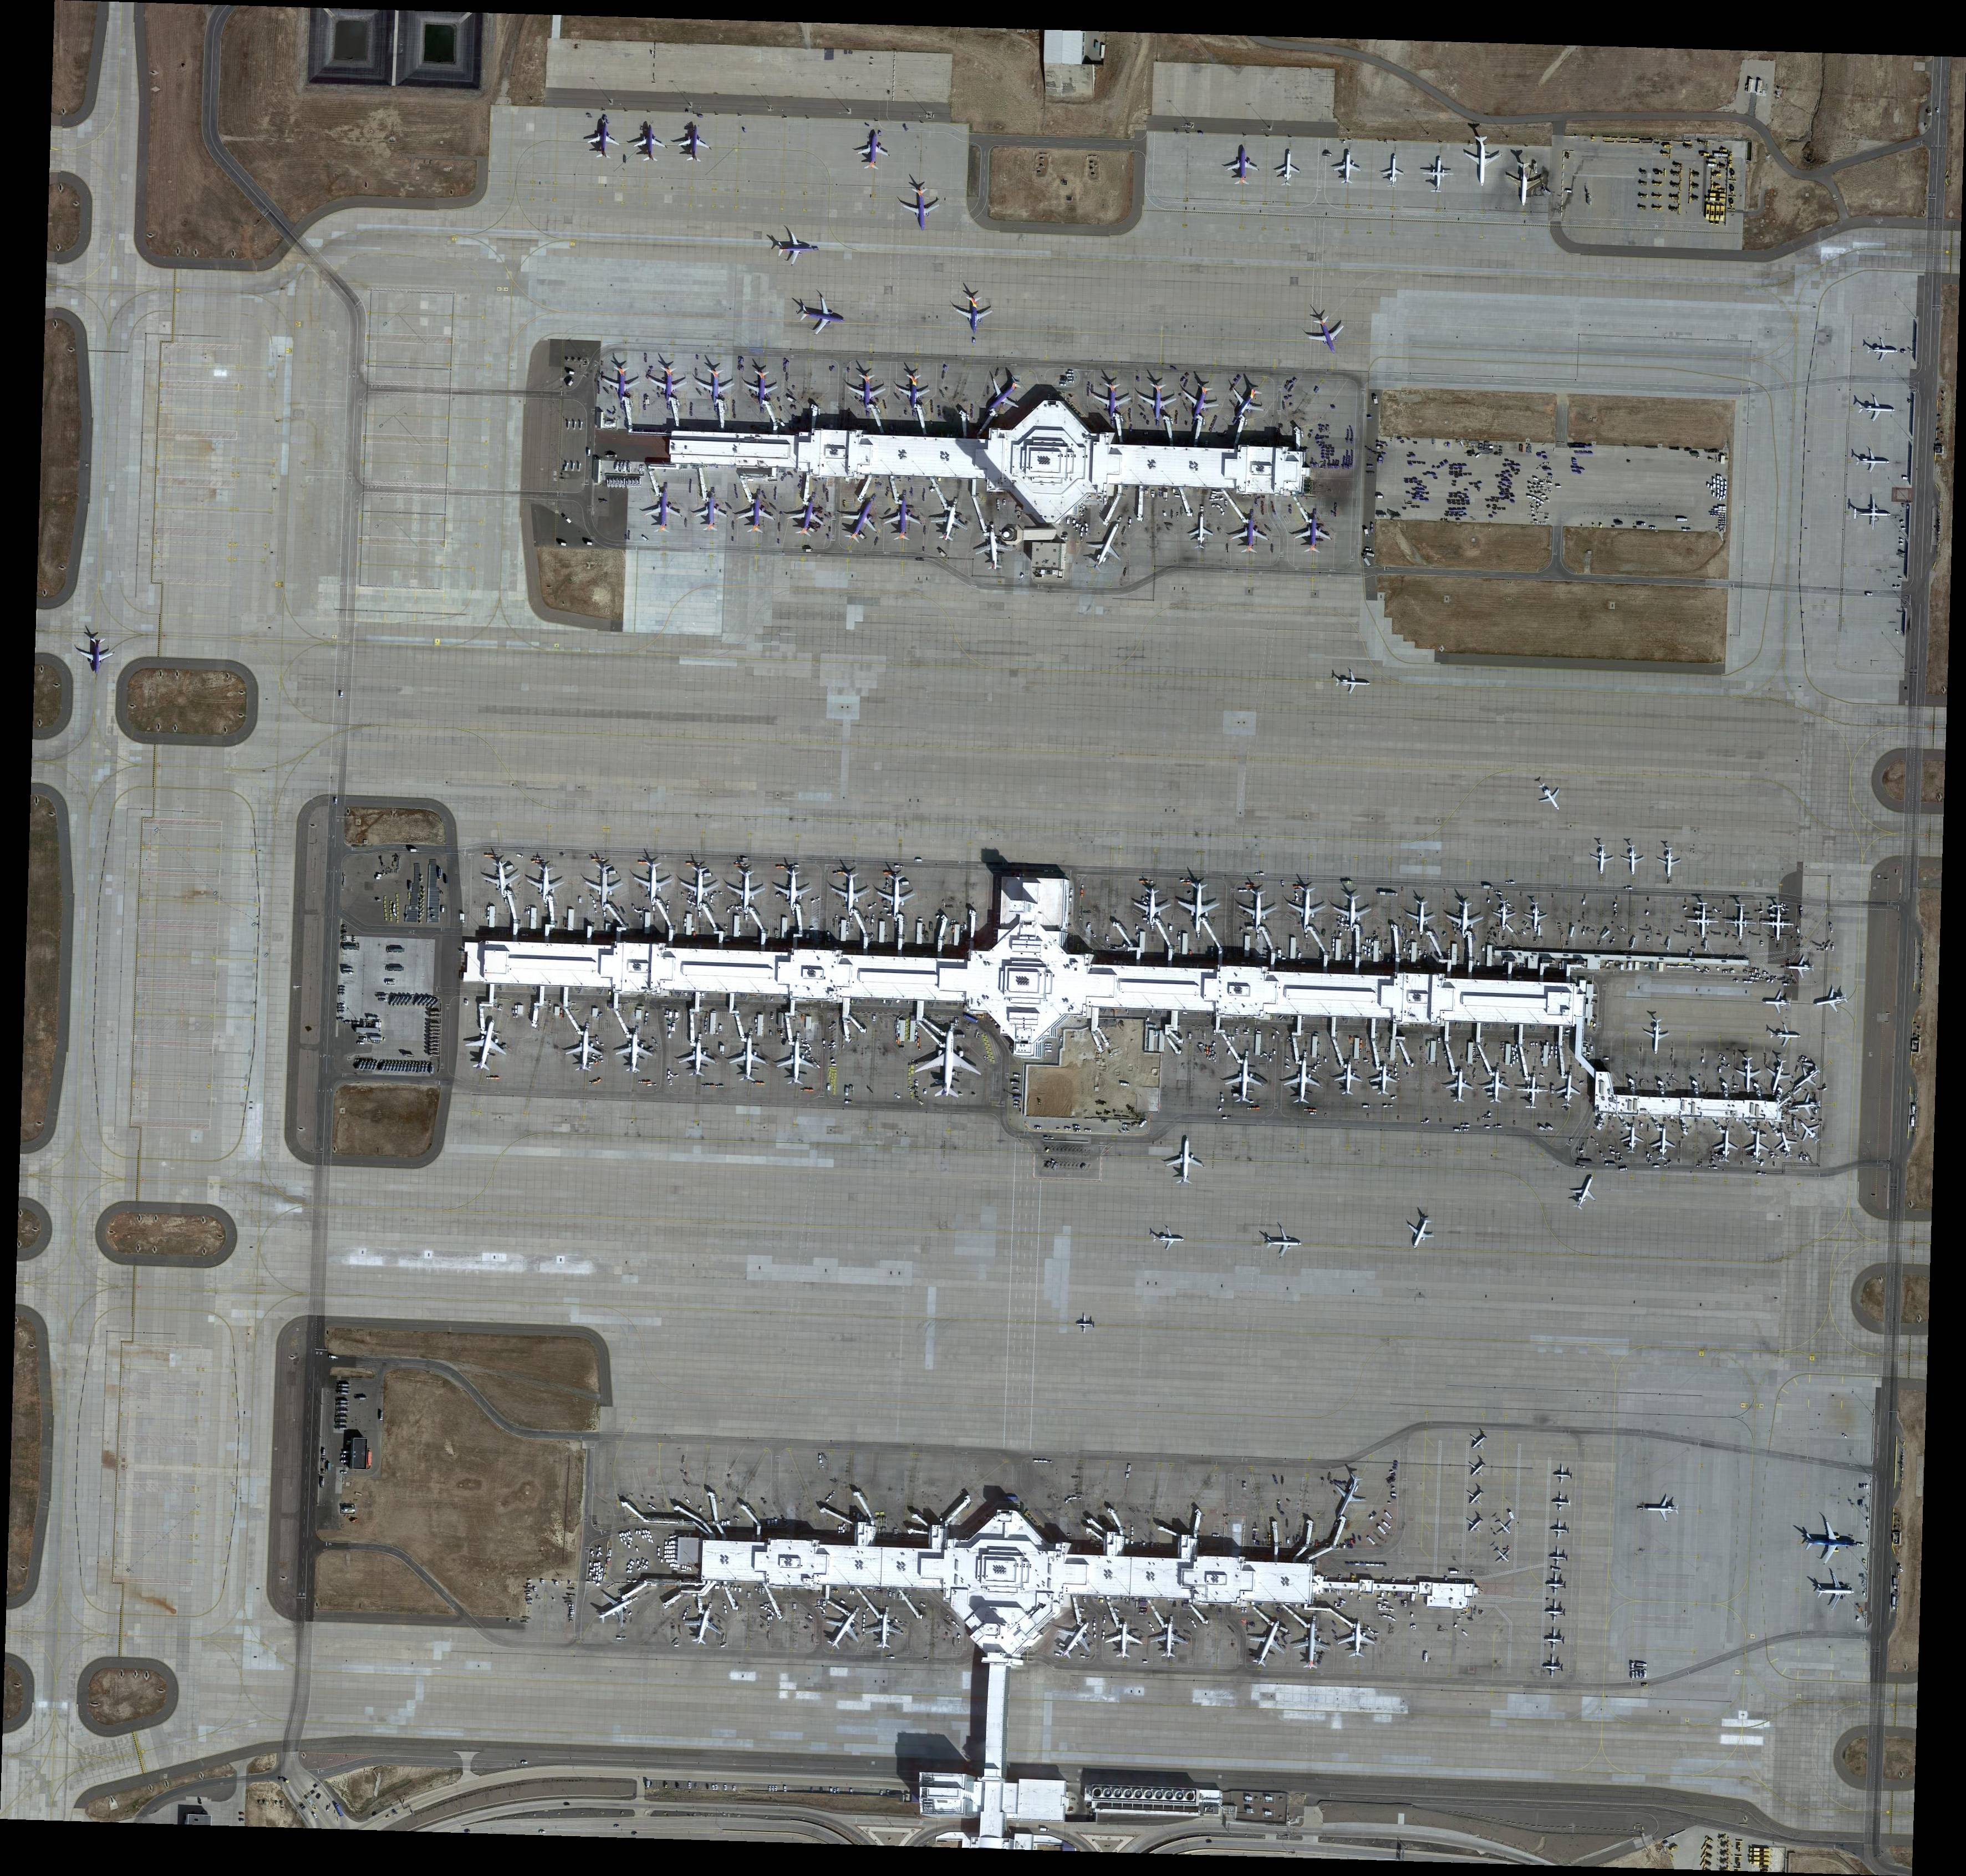plane: (909, 1020, 985, 1102), (967, 356, 1039, 430), (1318, 1462, 1380, 1532), (1211, 374, 1276, 439), (1041, 1607, 1104, 1672), (1238, 1611, 1295, 1681), (1076, 512, 1136, 579), (830, 488, 890, 551), (813, 1599, 872, 1658), (460, 1013, 513, 1079), (788, 288, 851, 342), (588, 1583, 648, 1637), (674, 1600, 732, 1655), (1801, 1514, 1859, 1569), (1173, 374, 1227, 430), (1302, 311, 1355, 363), (1160, 1130, 1208, 1188), (1176, 877, 1222, 937), (785, 490, 830, 544), (927, 497, 972, 551), (874, 865, 918, 921), (1285, 883, 1329, 939), (776, 1034, 820, 1090), (771, 863, 814, 918), (1222, 1053, 1266, 1107), (1292, 1616, 1332, 1674), (897, 184, 944, 233), (1397, 1207, 1445, 1257), (1236, 884, 1280, 937), (562, 1023, 604, 1078), (1281, 1055, 1324, 1109), (1087, 379, 1136, 425), (723, 867, 767, 918), (678, 863, 721, 914), (1462, 133, 1503, 188), (829, 869, 872, 918), (974, 523, 1016, 574), (583, 862, 625, 913), (1504, 160, 1546, 211), (613, 1027, 655, 1078), (1332, 890, 1374, 939), (600, 362, 644, 407), (674, 1034, 718, 1079), (632, 860, 674, 907), (1130, 883, 1173, 930), (883, 495, 923, 544), (642, 486, 683, 535), (1757, 1051, 1797, 1100), (74, 634, 118, 677), (1229, 512, 1271, 558), (1136, 379, 1178, 425), (864, 1607, 906, 1653), (1104, 1616, 1146, 1662), (1150, 1616, 1190, 1664), (728, 1034, 767, 1083), (481, 858, 525, 900), (1445, 899, 1487, 942), (953, 293, 995, 337), (692, 367, 735, 409), (1813, 1571, 1857, 1613), (1295, 509, 1334, 556), (1566, 1169, 1604, 1216), (1787, 1111, 1829, 1153), (1531, 776, 1571, 820), (646, 365, 690, 405), (523, 863, 565, 904), (1850, 493, 1892, 533), (844, 374, 886, 414), (893, 369, 934, 411), (1785, 1058, 1827, 1099), (776, 230, 820, 269), (1262, 1221, 1306, 1260), (678, 121, 714, 165), (855, 128, 892, 172), (1223, 142, 1260, 186), (1810, 983, 1854, 1020), (1761, 900, 1796, 946), (737, 495, 776, 535), (1339, 1618, 1378, 1658), (693, 491, 730, 533), (1420, 153, 1457, 195), (1724, 902, 1761, 944), (1687, 899, 1722, 942), (741, 370, 781, 407), (634, 121, 669, 163), (586, 119, 621, 161), (1406, 897, 1439, 941), (1855, 393, 1896, 426), (1641, 1493, 1682, 1527), (1638, 1016, 1671, 1056), (1517, 1070, 1550, 1111), (1187, 509, 1216, 553), (1332, 667, 1373, 698), (1443, 1065, 1474, 1106), (1734, 1053, 1764, 1095), (1482, 1065, 1511, 1107), (1769, 1127, 1803, 1164), (1274, 147, 1302, 190), (1150, 1223, 1188, 1253), (1334, 147, 1362, 188), (1369, 1058, 1397, 1099), (1713, 1123, 1740, 1165), (1555, 1069, 1582, 1111), (1587, 841, 1615, 879), (1332, 1058, 1360, 1097), (1745, 1127, 1771, 1167), (1460, 1453, 1494, 1485), (1782, 953, 1817, 983), (1380, 153, 1406, 191), (1852, 448, 1891, 474), (1489, 1511, 1520, 1543), (1462, 1427, 1496, 1457), (1787, 1093, 1824, 1120), (1650, 1125, 1676, 1162), (1489, 1539, 1518, 1571), (1761, 988, 1792, 1018), (1618, 842, 1647, 876), (1866, 337, 1899, 365), (1769, 1021, 1803, 1049), (1460, 1481, 1490, 1511), (1490, 899, 1517, 932), (1460, 1511, 1490, 1539), (1655, 846, 1682, 877), (1524, 902, 1548, 935), (1620, 1121, 1643, 1155), (1543, 1599, 1568, 1623), (1548, 1464, 1575, 1486), (1541, 1655, 1564, 1679), (1543, 1629, 1566, 1651), (1545, 1574, 1568, 1597), (1548, 1492, 1573, 1513), (1546, 1520, 1571, 1539), (1546, 1548, 1569, 1567), (1076, 1313, 1095, 1335)
